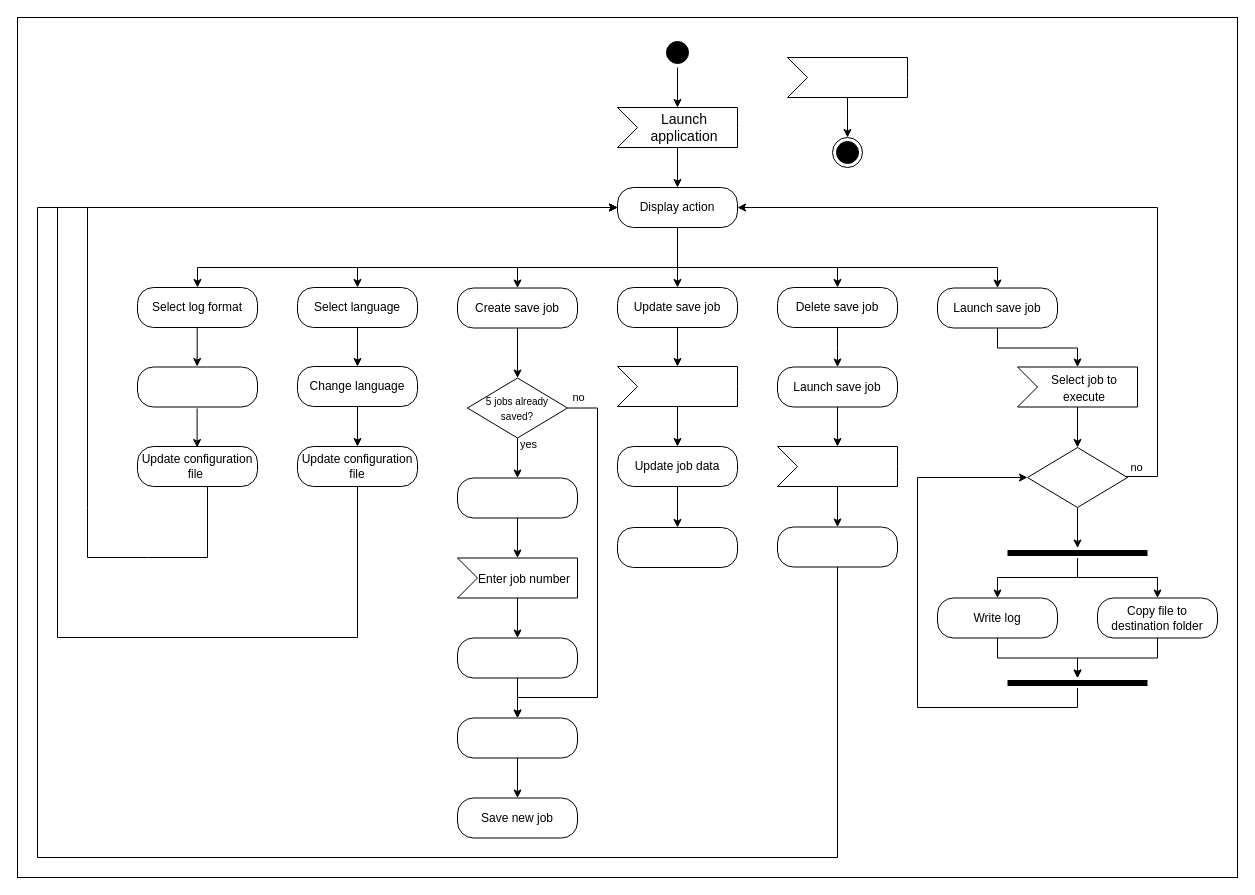
The diagram is 1255 pixels wide and 895 high, and some of its shapes have lost their labels. Here are the shapes that lost their labels. From the top down, the centre of each, then its label:
point 847,77: Close application
point 197,386: Change log format
point 677,386: Select job to update
point 837,466: Select job to delete
point 1077,477: job_done < job_to_do ?
point 517,497: Ask which job to overwrite
point 677,547: Save updated job data
point 837,546: Delete job data
point 517,657: Delete job
point 517,737: Enter new save job data
